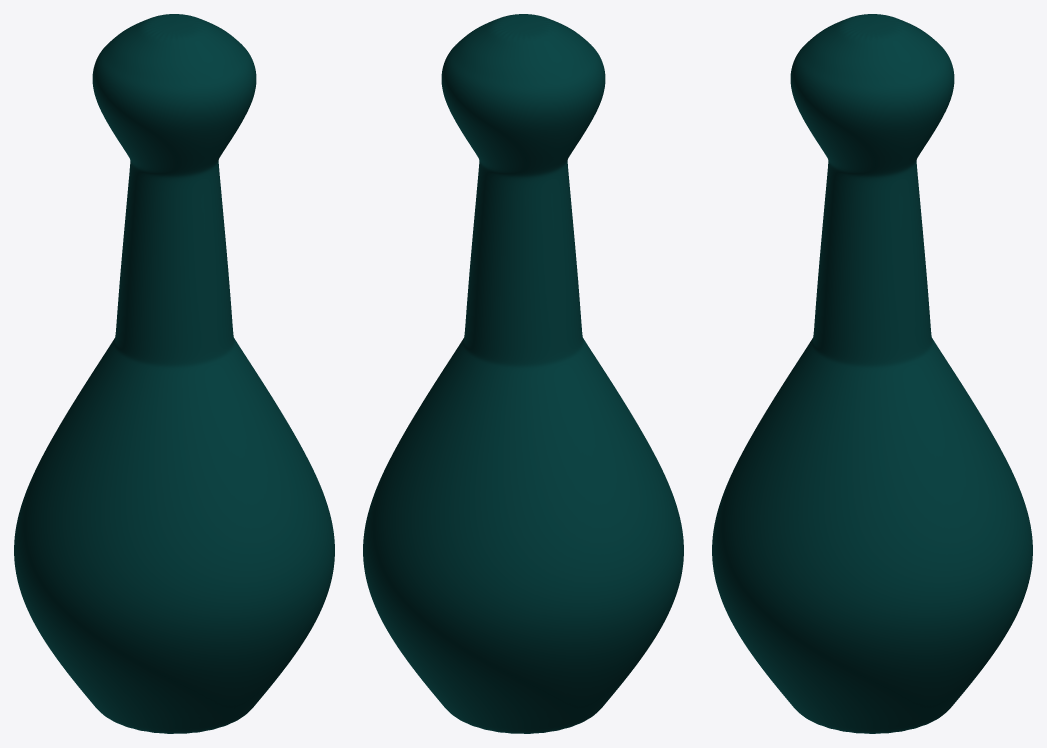
Rendered from bowling_pin.glb.
The picture shows the model from 3 angles, left to right: view 1: azimuth 30°, elevation 25°; view 2: azimuth 150°, elevation 25°; view 3: azimuth 270°, elevation 25°; orthographic projection.
Parts seen in each view (by area): view 1: bowling; view 2: bowling; view 3: bowling.
Part boxes in pixels (x1,y1,x2,y2): bowling: (14,14,334,733); bowling: (363,14,683,733); bowling: (712,14,1032,733).
Bounding box in the file's own units: 0.6524 × 1.53 × 0.6524.
